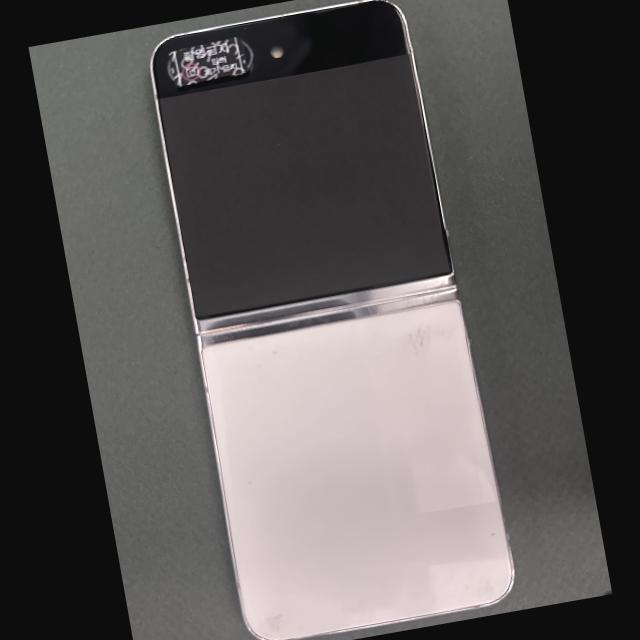lens: (242, 40, 253, 67), (167, 61, 173, 81)
phone: (152, 1, 513, 639)
sticker: (168, 36, 248, 87)
